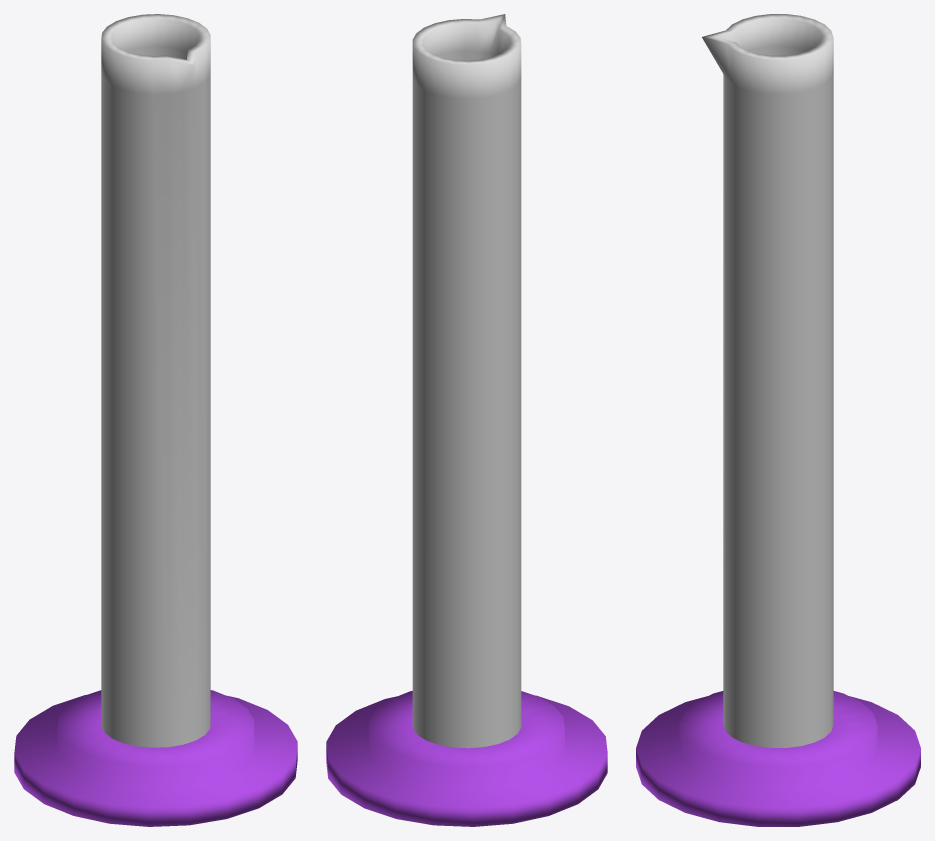
The model's file is gradcylinder.fbx.
3 views of the same model, side by side, from view 1: azimuth 30°, elevation 25°; view 2: azimuth 150°, elevation 25°; view 3: azimuth 270°, elevation 25° (orthographic).
Parts seen in each view (by area): view 1: Cylinder, Base; view 2: Cylinder, Base; view 3: Cylinder, Base.
Boxes of the visible parts, x1,y1,x2,y2 form: Cylinder: (101,14,210,747); Base: (14,690,297,826); Cylinder: (412,14,521,748); Base: (326,691,607,826); Cylinder: (702,14,833,747); Base: (636,691,920,826).
Size of the model in its own units: 25.62 by 73.25 by 25.88.
